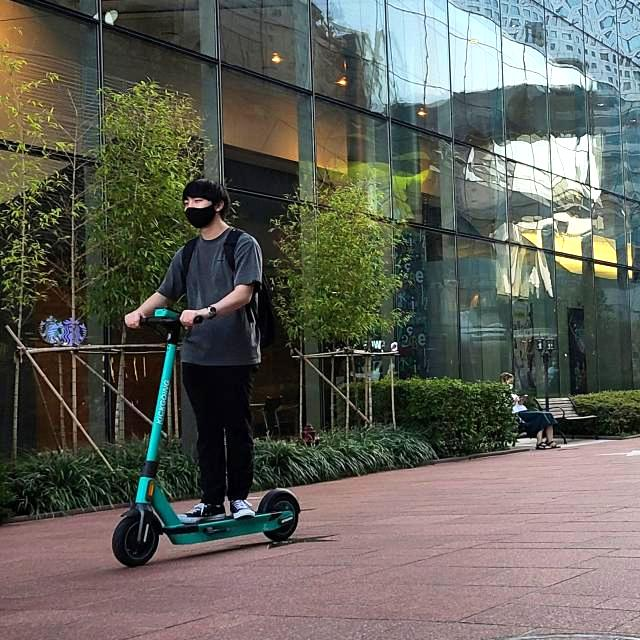bare_head: (176, 172, 242, 232)
human: (152, 154, 259, 520)
kickboard: (113, 484, 334, 582)
